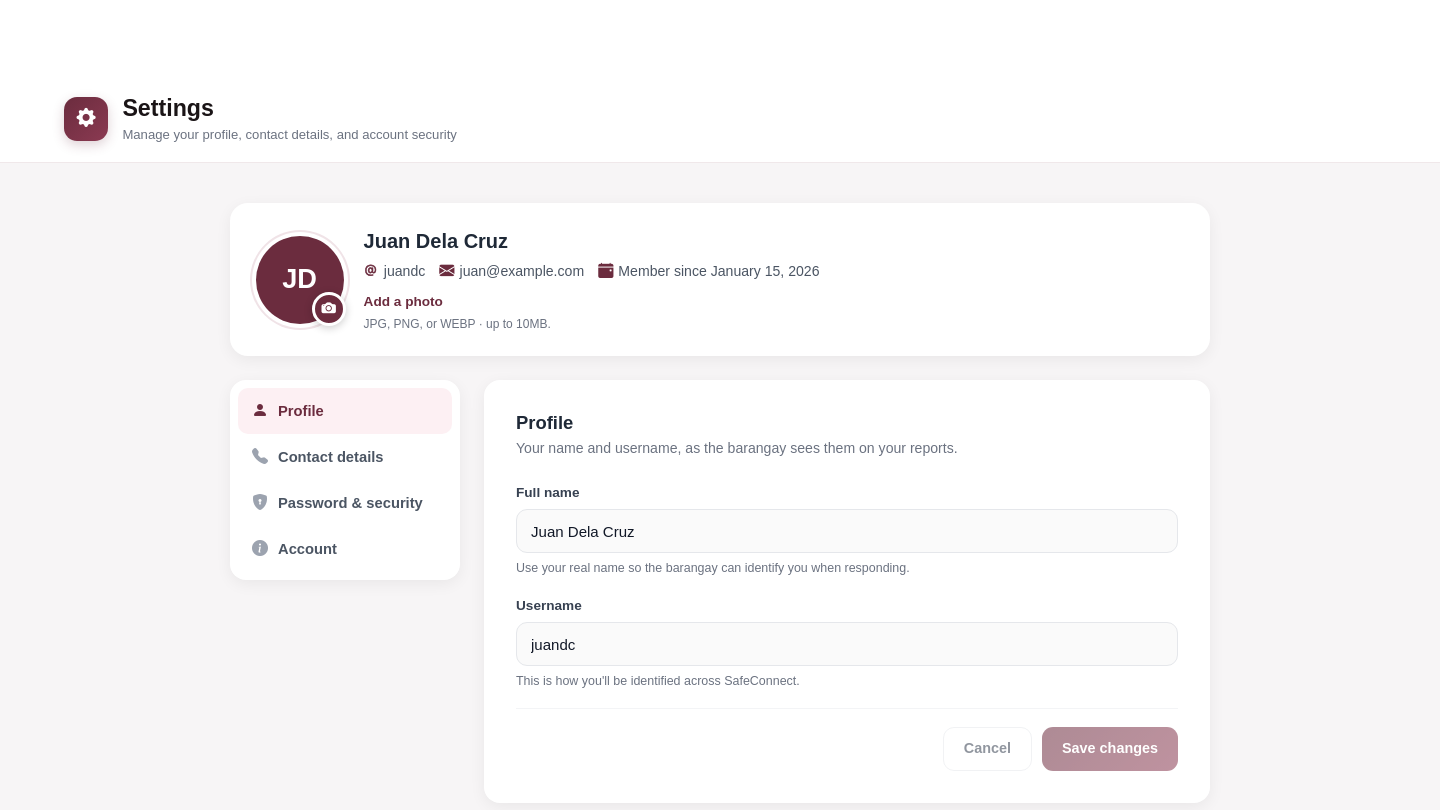
Scenario: Contact details › loads the phone number into the +63 field
Expected: the field labelled "Full name" holds "Juan Dela Cruz", [516, 509, 1178, 553]
Click the button "Contact details": [345, 457] box [238, 434, 452, 480]
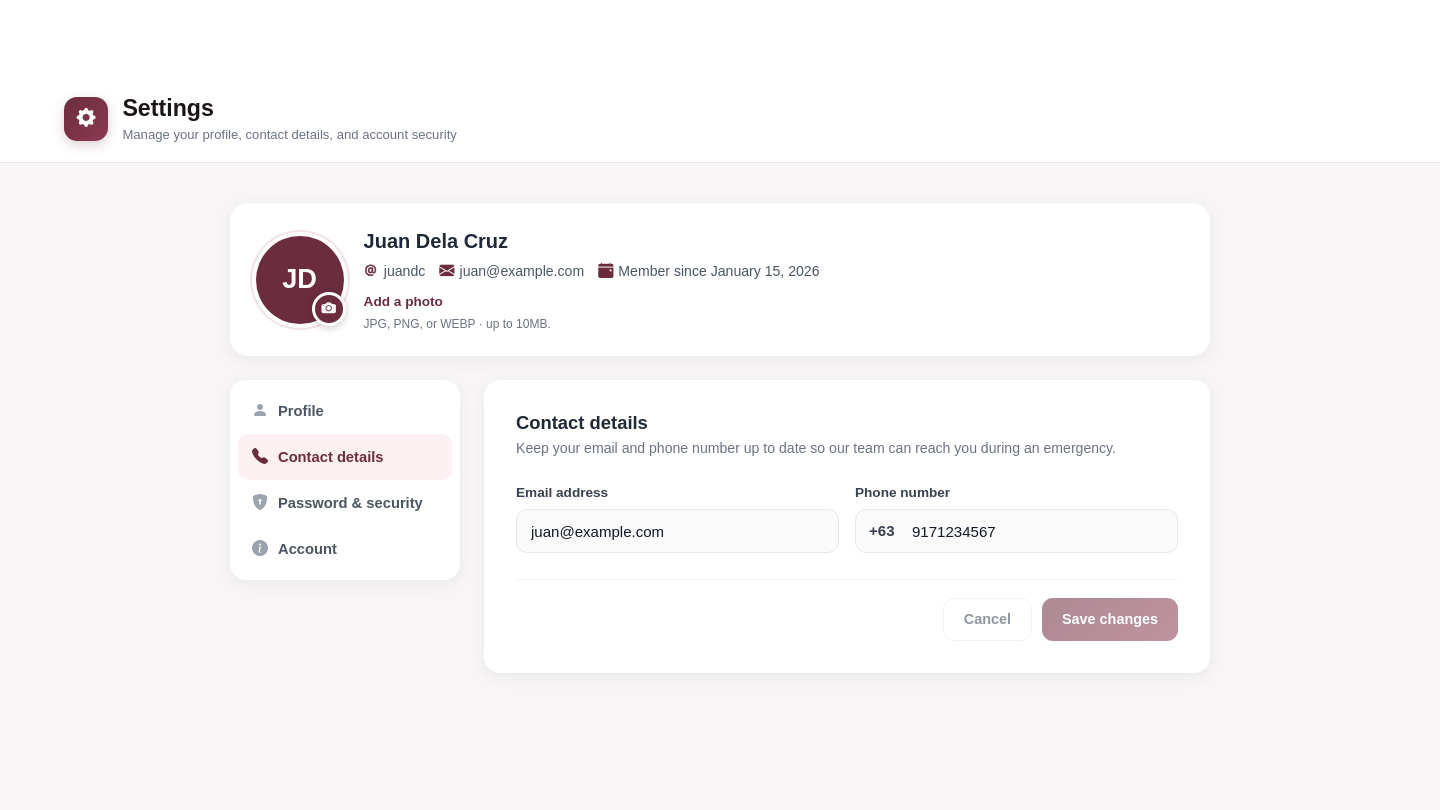
Expected: the field labelled "Phone number" holds "9171234567", [855, 509, 1178, 553]
